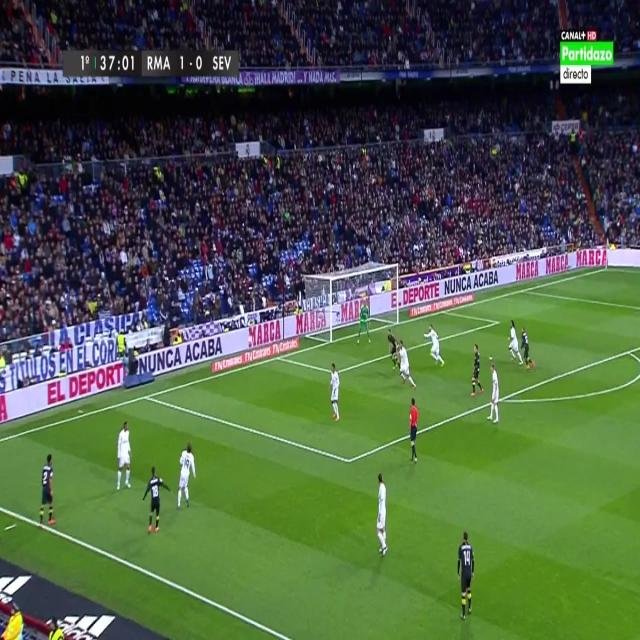Goalkeeper: (353, 300, 373, 344)
Player: (141, 467, 173, 538), (456, 530, 476, 622), (176, 441, 198, 512), (37, 451, 56, 532), (375, 468, 391, 558), (115, 420, 134, 494), (396, 337, 419, 392), (422, 324, 447, 369), (519, 324, 539, 375), (328, 361, 342, 423), (506, 318, 524, 364), (486, 363, 499, 426), (471, 340, 484, 400), (386, 323, 399, 375)
Referee: (407, 395, 421, 466)
